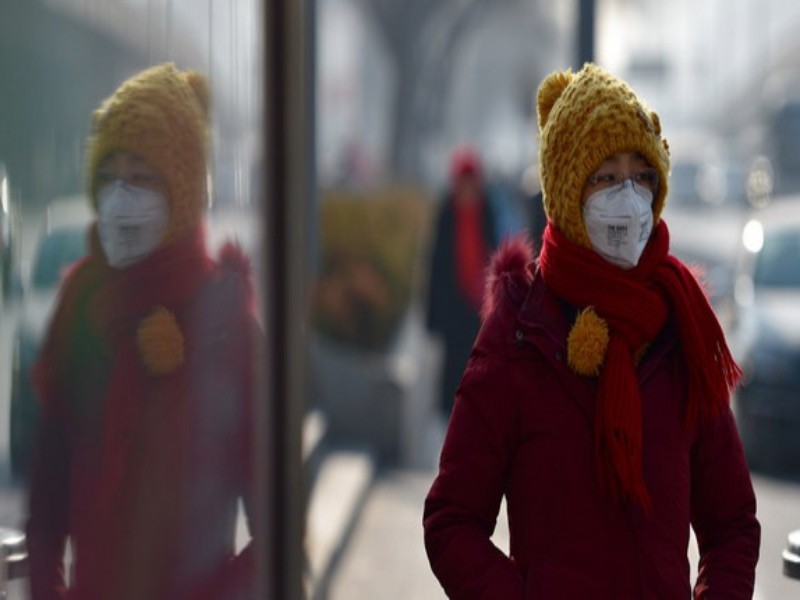mask: (77, 66, 209, 259), (542, 88, 675, 262)
